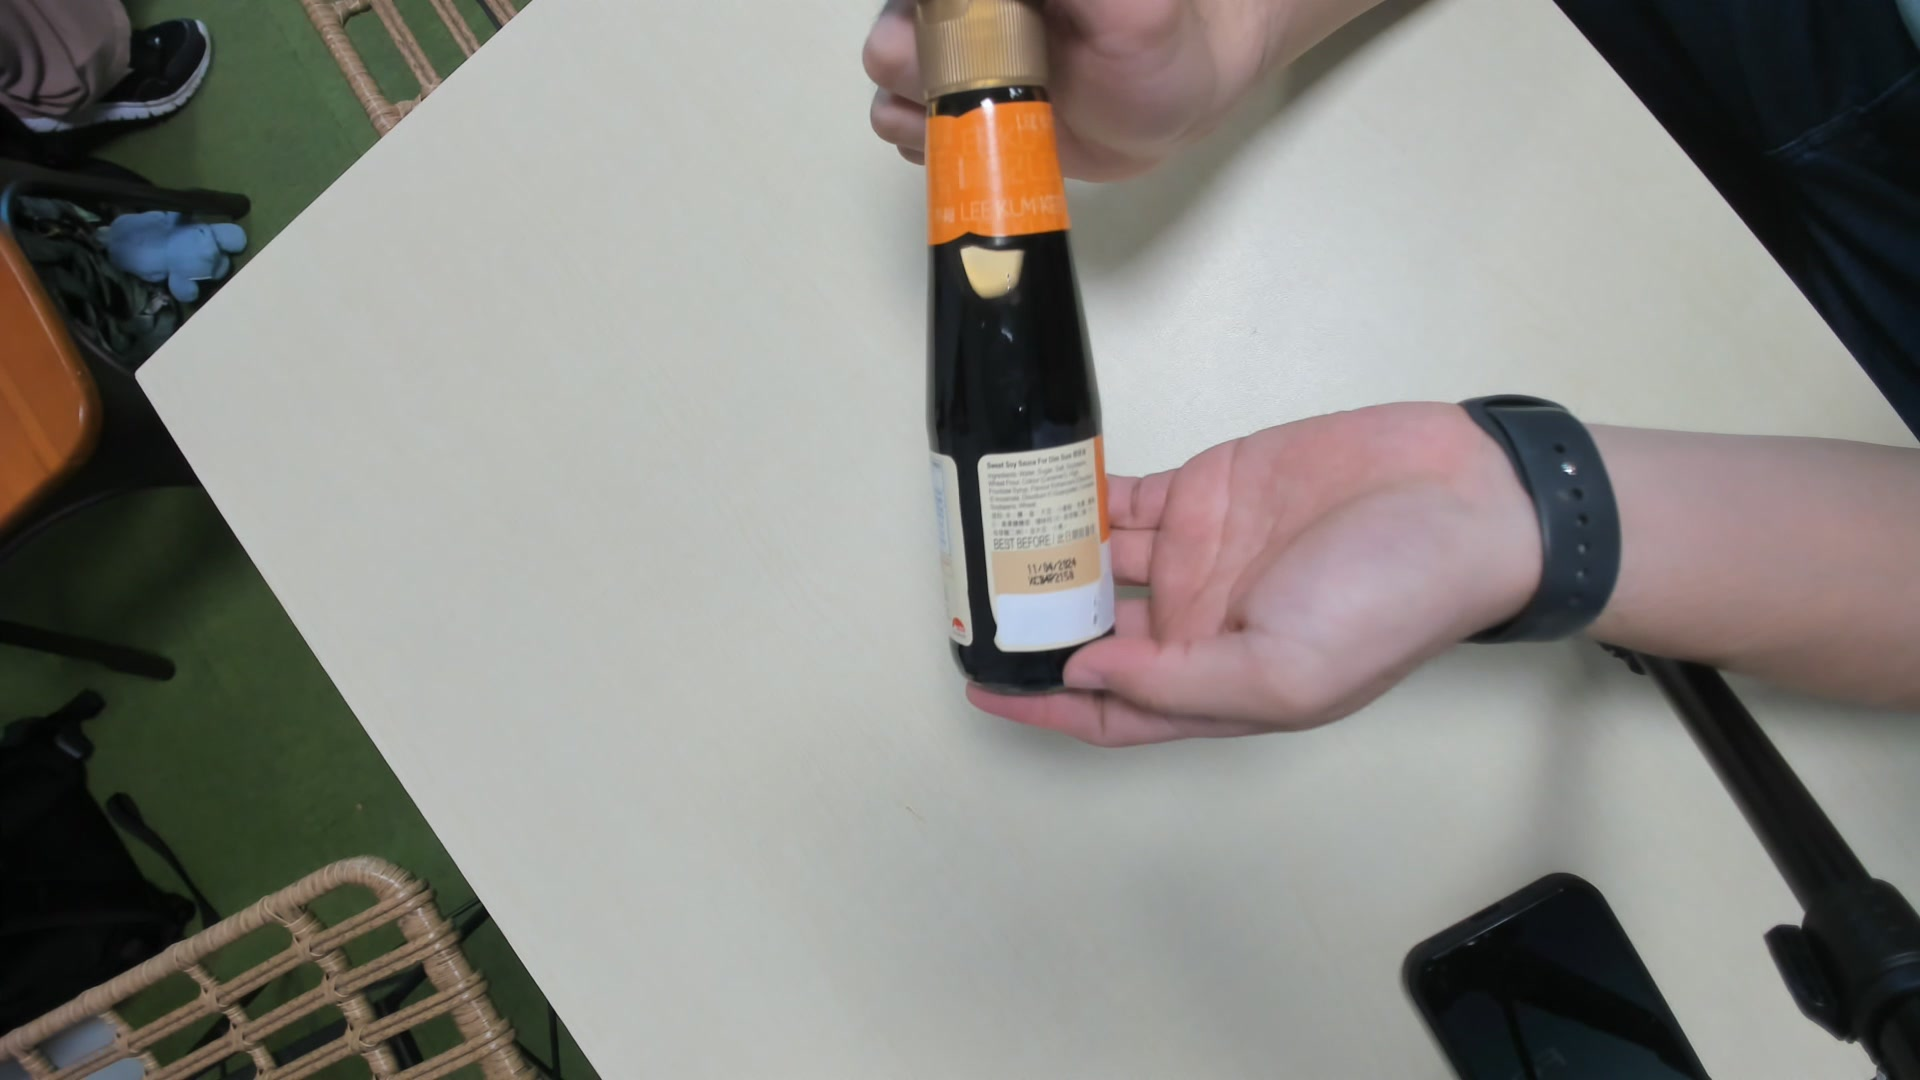OtherSauceDressing_200-299g_NonHalal_NonHealthy: (916, 1, 1116, 700)
